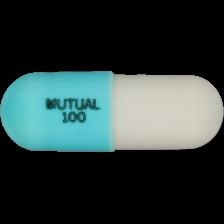50268-277: (0, 0, 224, 224)
